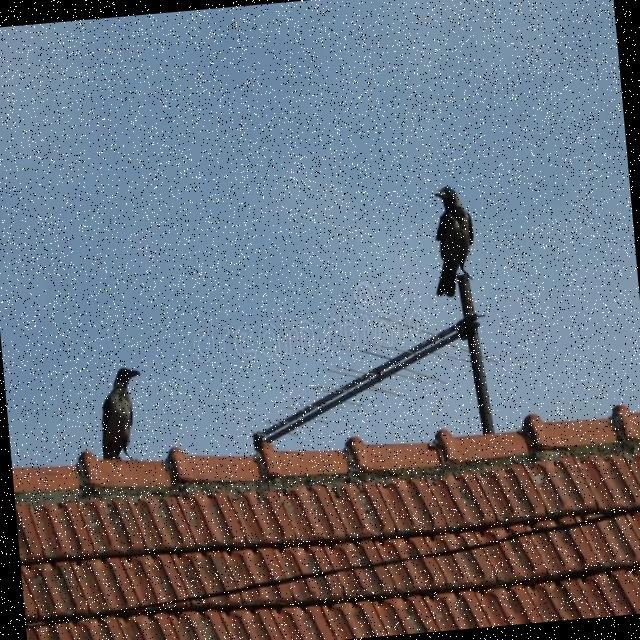bird: (426, 183, 479, 299), (94, 364, 148, 462)
